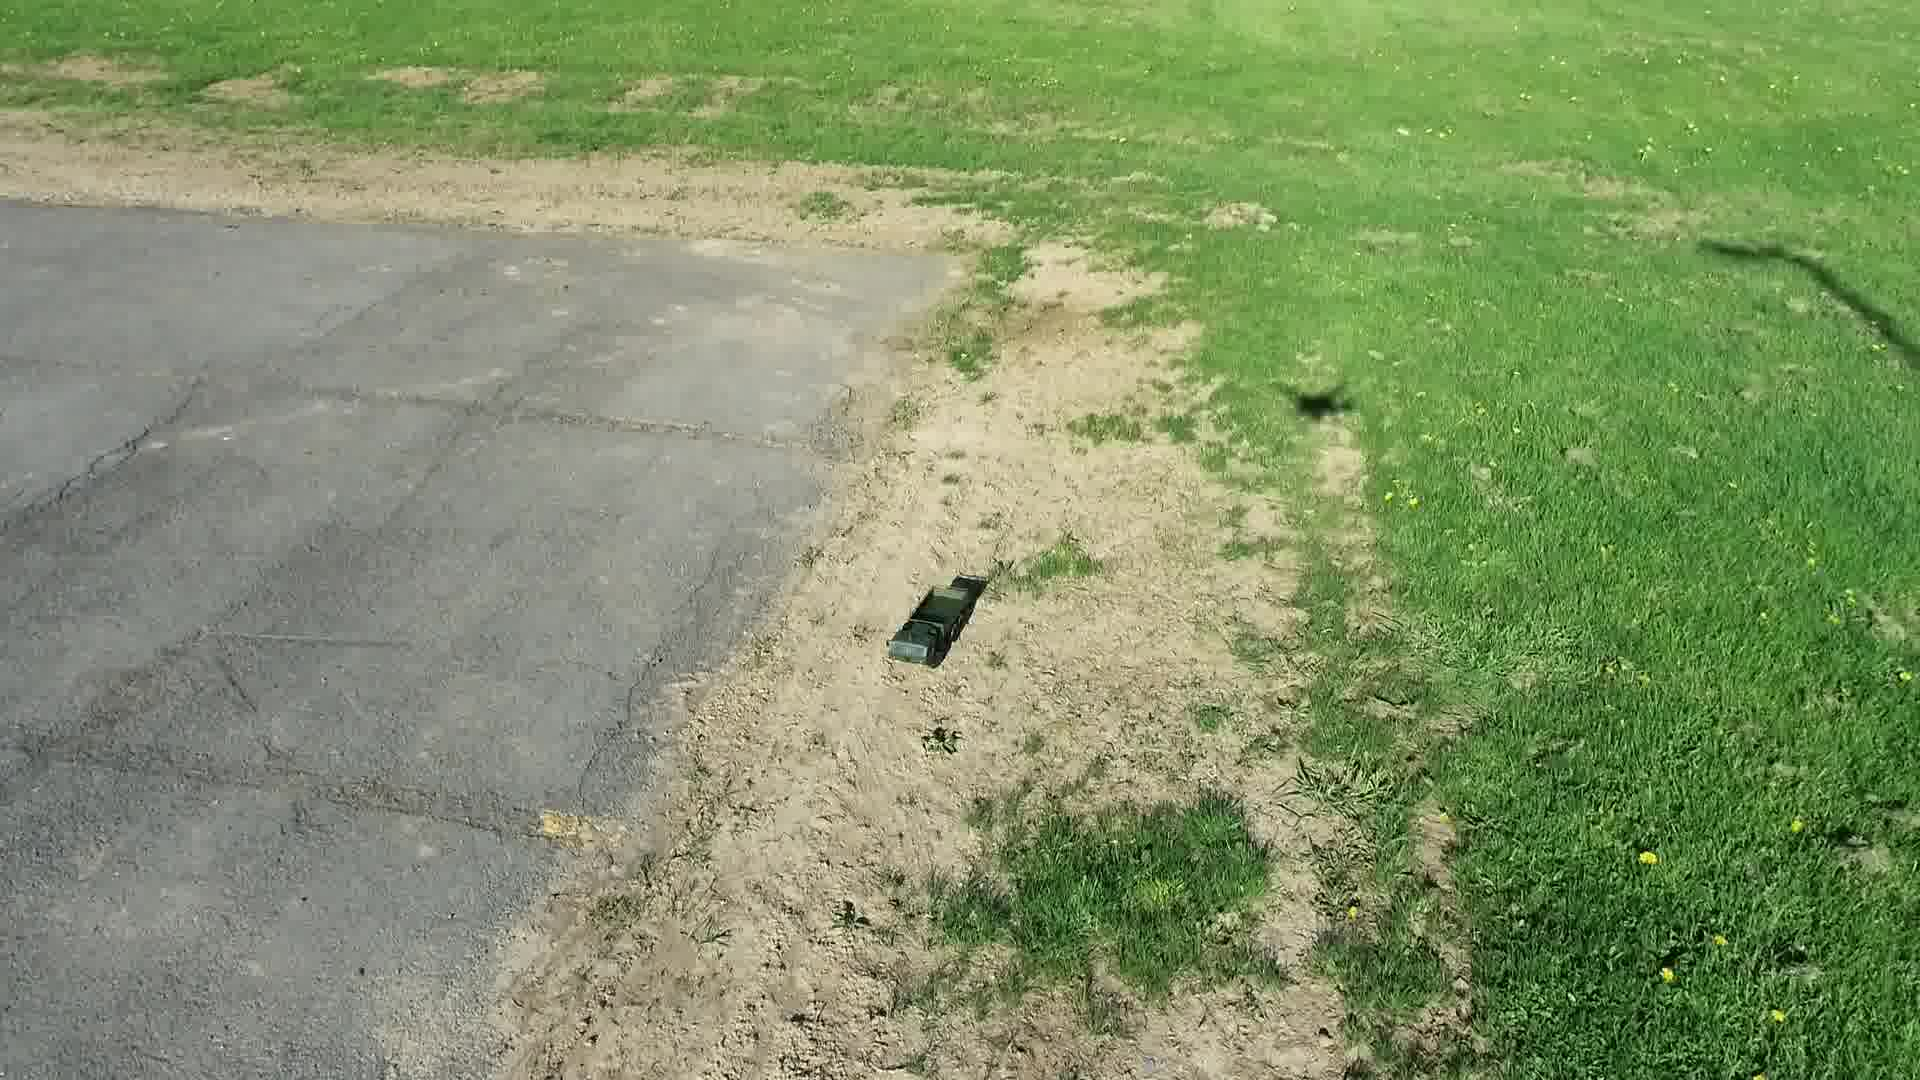transporter9: (876, 572, 990, 676)
